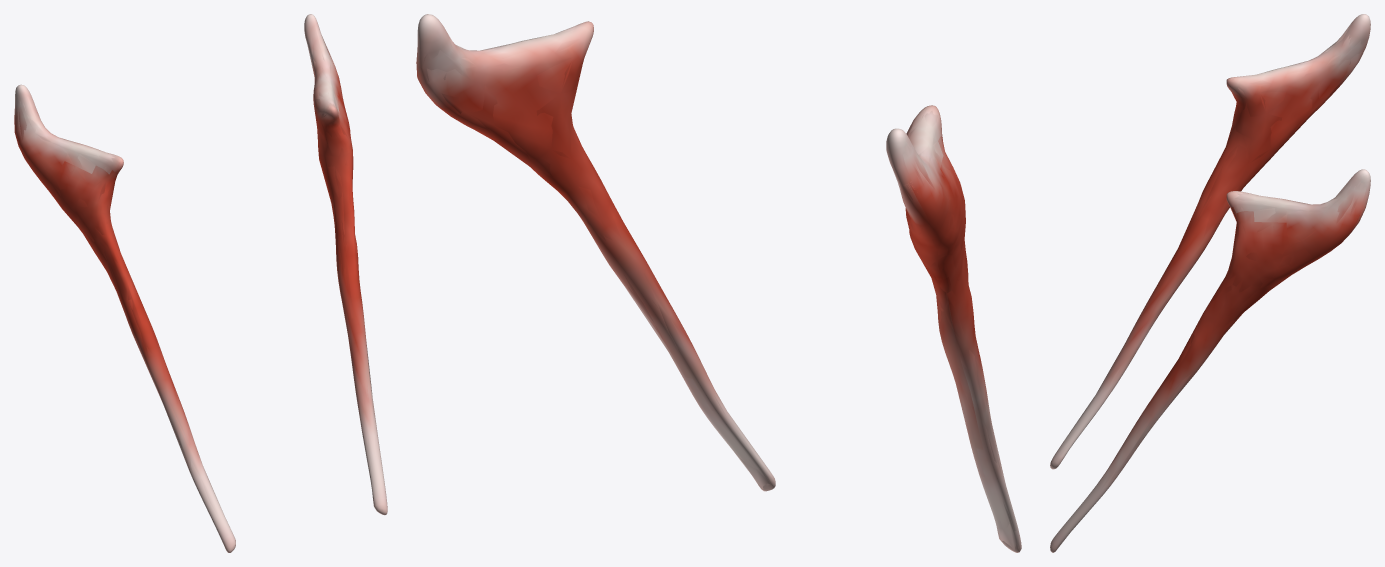
Rendered from Levator labii superioris.fbx.
3 renders of one model, left to right at view 1: azimuth 30°, elevation 25°; view 2: azimuth 150°, elevation 25°; view 3: azimuth 270°, elevation 25°, orthographic. The views are drawn at different scales.
Parts seen in each view (by area): view 1: Levator labii superioris, Levator labii superioris low; view 2: Levator labii superioris, Levator labii superioris low; view 3: Levator labii superioris, Levator labii superioris low.
Boxes of the visible parts, x1,y1,x2,y2 form: Levator labii superioris: (14,14,387,552); Levator labii superioris low: (15,26,383,547); Levator labii superioris: (416,14,1021,552); Levator labii superioris low: (417,24,1019,550); Levator labii superioris: (1050,14,1370,552); Levator labii superioris low: (1050,23,1367,549).
Bounding box in the file's own units: 22.48 × 26.04 × 18.09.
1 material, 1 textured.
